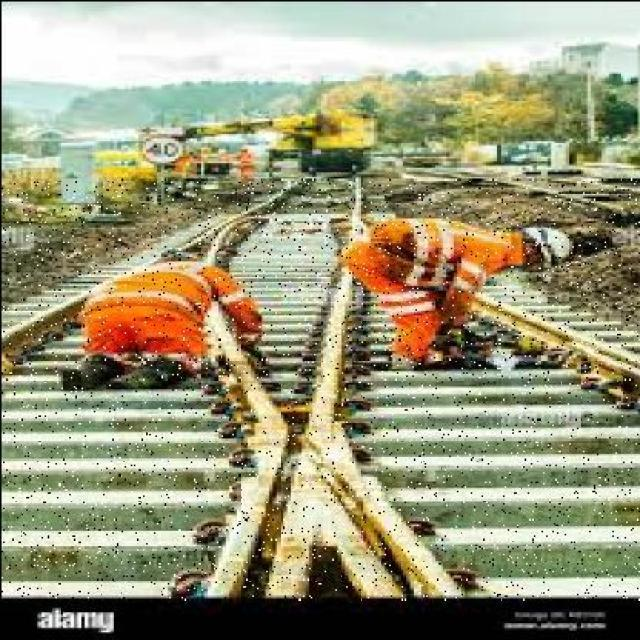danger: (335, 214, 600, 371), (74, 255, 268, 400)
rail: (0, 178, 640, 598)
